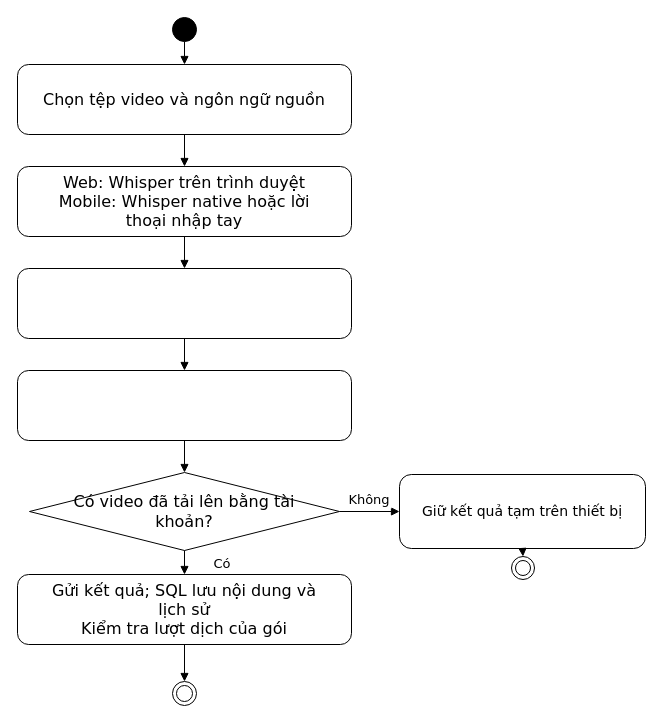
Some shapes in this 663 by 723 pixel diagram are drawn without their labels. The centre of each missing label's shape, as x and y in pixels:
"Khi cần dịch: gọi API có token Dịch qua dịch vụ nội bộ và Ollama" belongs at (x=184, y=303).
"Phát phụ đề và TTS trên thiết bị" belongs at (x=184, y=405).
